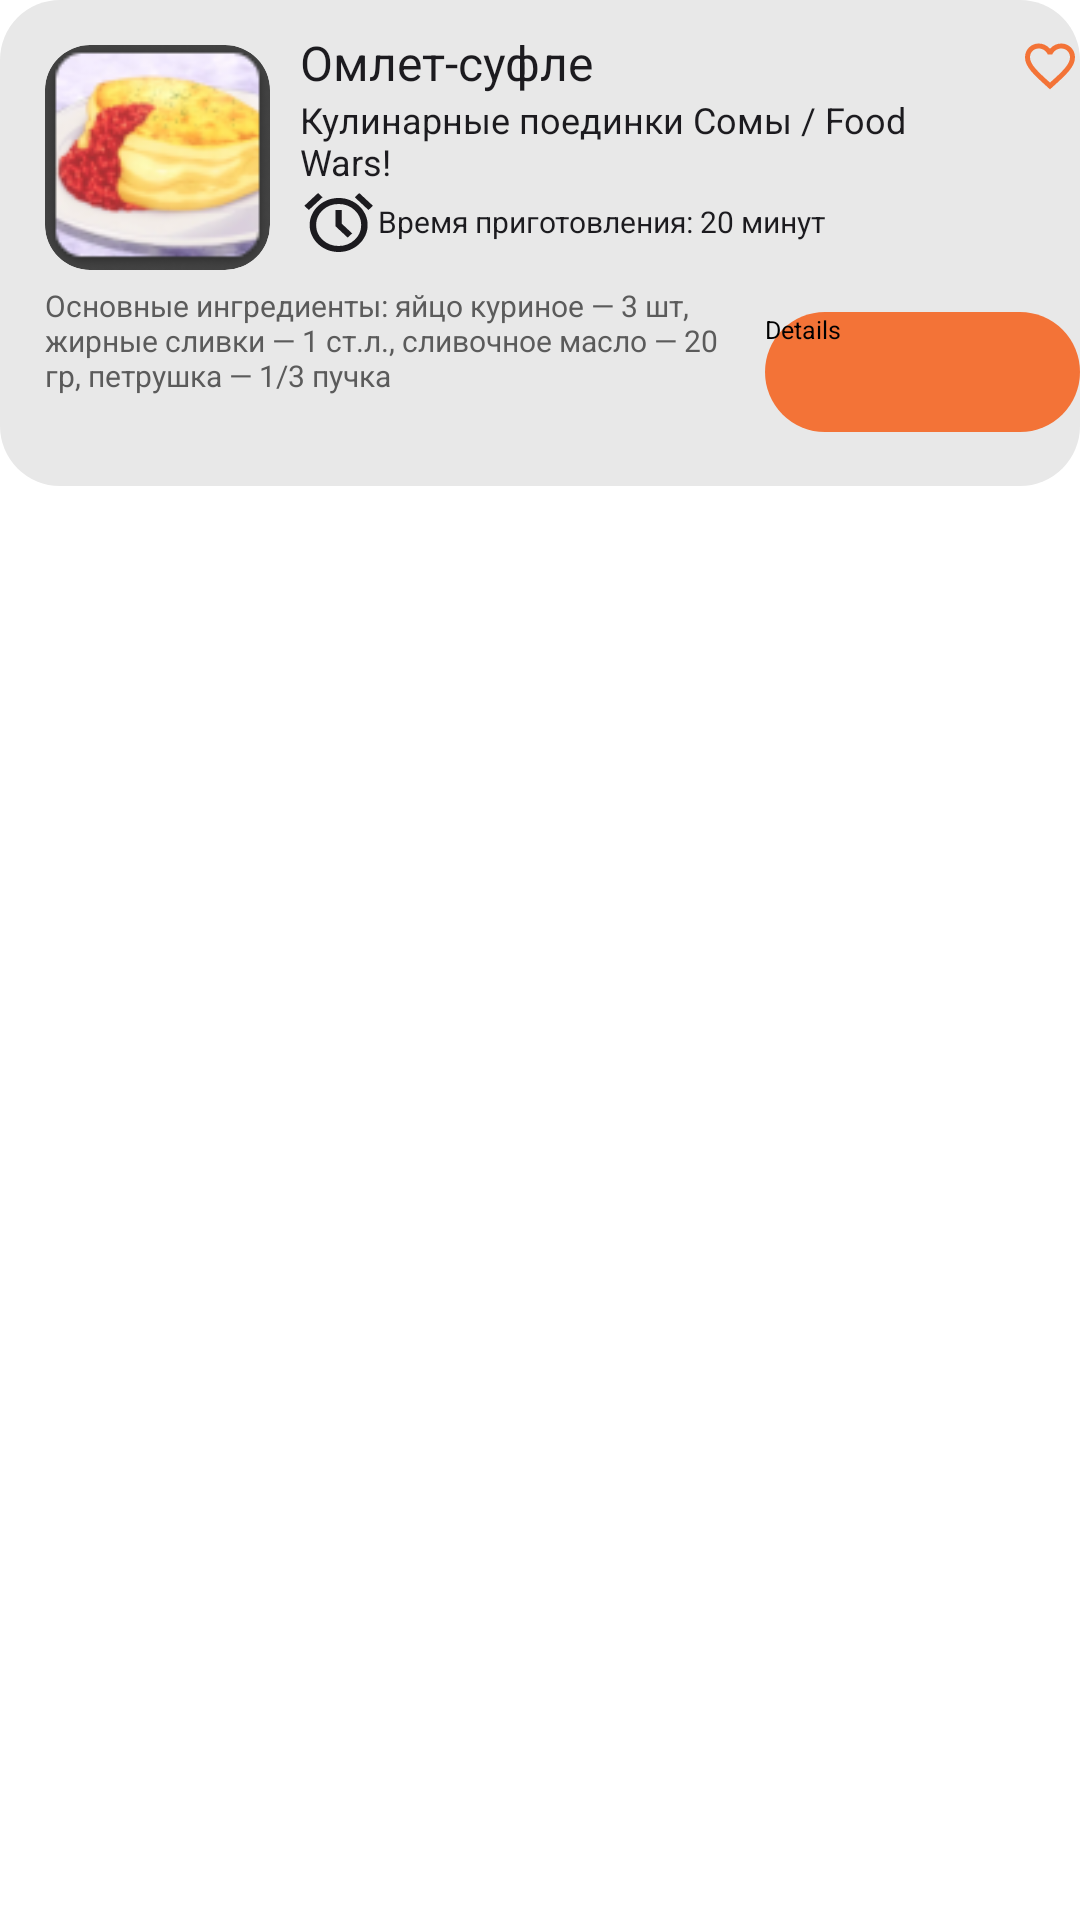

Point at icon controls on the screen. Image size 1080x1920, points as (x,y).
favorite border: (1050,66)
timer: (338,222)
